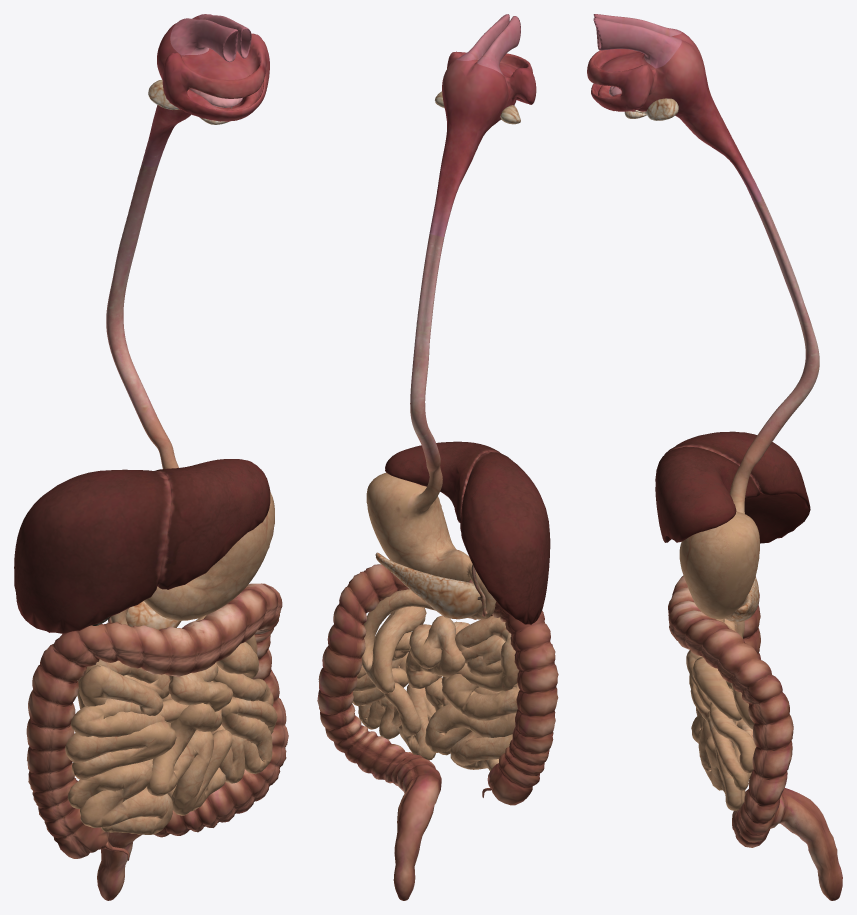
The model's file is digestive_system.glb.
3 views of the same model, side by side, from view 1: azimuth 30°, elevation 25°; view 2: azimuth 150°, elevation 25°; view 3: azimuth 270°, elevation 25° (orthographic). The views are drawn at different scales.
Parts seen in each view (by area): view 1: DigestiveSystem_Digestive_System_0_0; view 2: DigestiveSystem_Digestive_System_0_0; view 3: DigestiveSystem_Digestive_System_0_0.
Part boxes in pixels (x1,y1,x2,y2): DigestiveSystem_Digestive_System_0_0: (14,14,288,900); DigestiveSystem_Digestive_System_0_0: (317,14,558,900); DigestiveSystem_Digestive_System_0_0: (587,14,842,900).
Bounding box in the file's own units: 22.34 × 76.41 × 20.02.
Materials: 1 (1 with a texture image).
